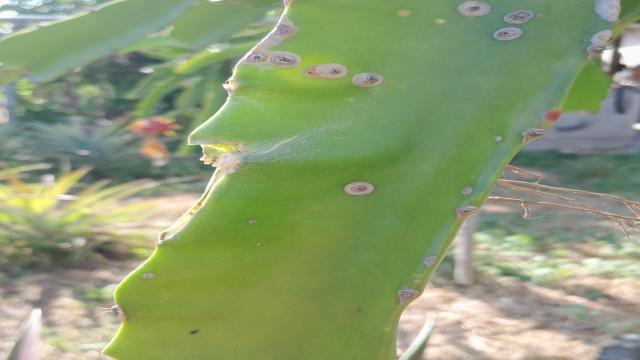stemcanker: (488, 23, 528, 46), (340, 177, 379, 200), (498, 7, 539, 28), (134, 270, 162, 284), (396, 3, 416, 22), (245, 212, 262, 232), (434, 15, 452, 27), (252, 239, 266, 250)
